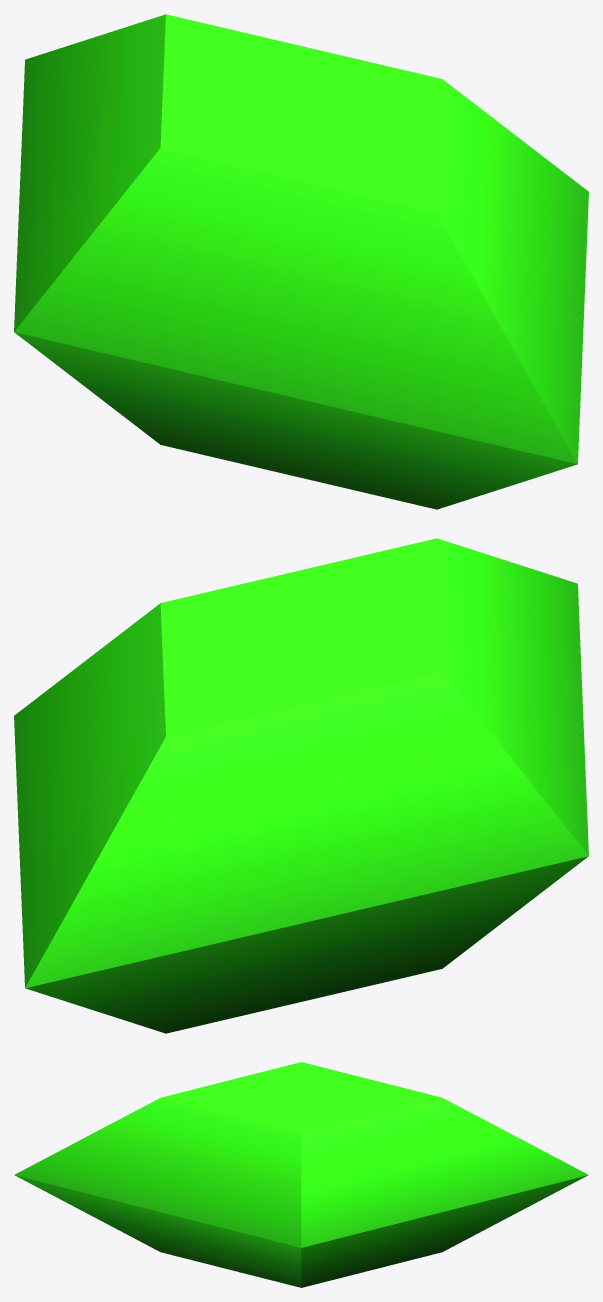
File: Gem.003.glb
3 views of the same model, one above another, from view 1: azimuth 30°, elevation 25°; view 2: azimuth 150°, elevation 25°; view 3: azimuth 270°, elevation 25° (orthographic). The views are drawn at different scales.
Parts seen in each view (by area): view 1: Gem.003; view 2: Gem.003; view 3: Gem.003.
Part boxes in pixels (x1,y1,x2,y2): Gem.003: [14, 14, 588, 509]; Gem.003: [14, 538, 588, 1033]; Gem.003: [14, 1062, 588, 1287].
Size of what is drawn, in the model's own units: 0.235 by 0.116 by 0.3914.
Materials: 1 (1 with a texture image).
